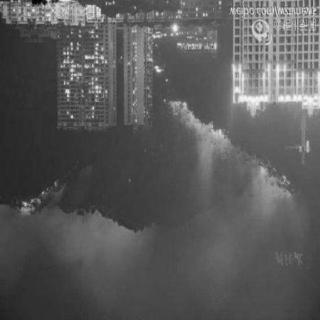Smoke: (12, 215, 306, 313)
